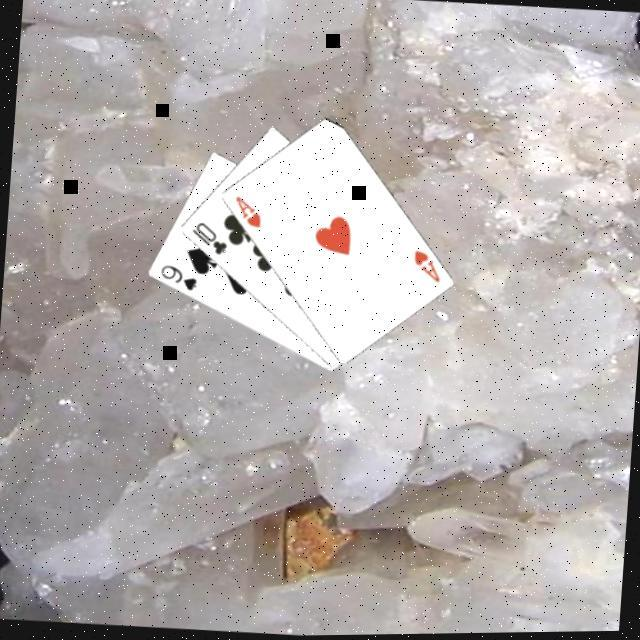10C: (184, 220, 229, 262)
9S: (154, 263, 198, 297)
AH: (227, 194, 263, 234), (406, 248, 442, 288)
